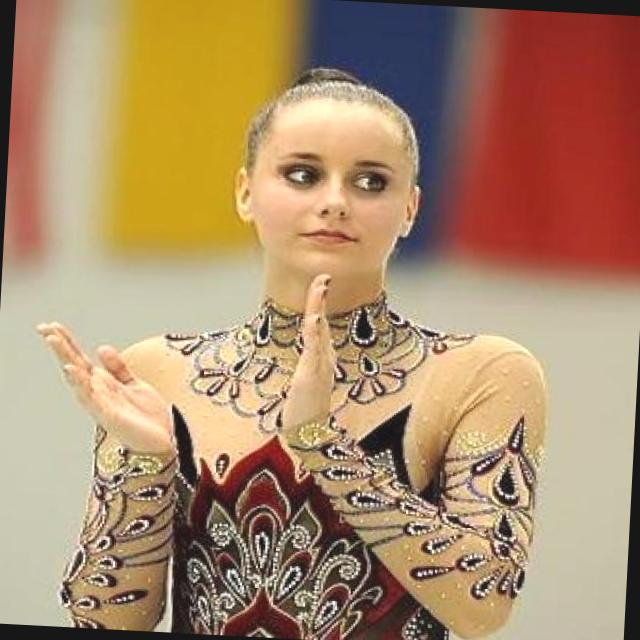no_vest: (38, 267, 580, 640)
